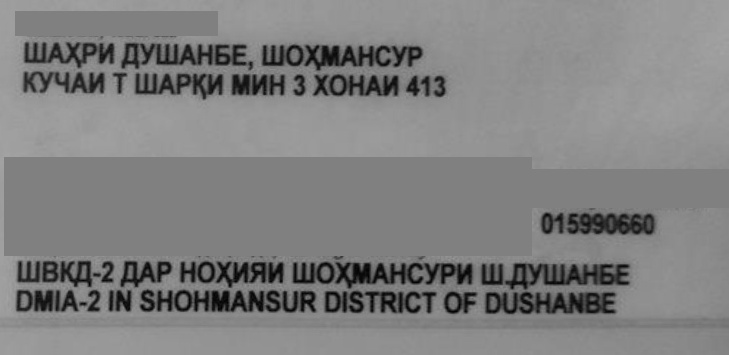0: (539, 209, 557, 237), (603, 209, 621, 237), (641, 209, 659, 237)
1: (420, 69, 434, 105), (552, 209, 568, 237)
2: (102, 249, 118, 293), (85, 283, 105, 315)
3: (433, 69, 449, 105)
4: (404, 68, 424, 104)
5: (565, 209, 581, 237)
6: (616, 209, 632, 237), (629, 209, 645, 237)
9: (577, 209, 595, 237), (590, 209, 608, 237)
А: (44, 32, 64, 72), (177, 33, 197, 73), (342, 35, 362, 75), (138, 251, 158, 291), (370, 252, 390, 292), (565, 253, 585, 293), (157, 68, 177, 102), (366, 69, 386, 103), (70, 67, 88, 101)
Б: (214, 33, 234, 73), (599, 253, 619, 293)
В: (39, 251, 59, 291)
Д: (122, 32, 142, 72), (74, 251, 94, 291), (123, 251, 139, 291), (512, 253, 528, 293)
Е: (615, 253, 637, 293), (230, 33, 248, 73)
З: (295, 69, 313, 103)
И: (96, 32, 124, 72), (453, 252, 481, 292), (268, 252, 292, 292), (87, 67, 113, 101), (207, 68, 231, 102), (383, 69, 407, 103), (230, 251, 250, 291), (250, 68, 270, 102)
К: (57, 251, 75, 291), (26, 67, 38, 101)
М: (318, 34, 340, 74), (346, 252, 366, 292), (234, 68, 250, 102)
Н: (269, 68, 293, 102), (194, 33, 214, 73), (355, 35, 373, 75), (386, 252, 404, 292), (578, 253, 596, 293), (344, 69, 364, 103), (183, 251, 197, 291)
О: (312, 252, 334, 292), (285, 34, 305, 74), (195, 251, 215, 291), (330, 69, 346, 103)
Р: (405, 35, 431, 75), (156, 251, 180, 291), (79, 32, 97, 72), (438, 252, 454, 292), (172, 68, 190, 102)
С: (375, 35, 395, 75), (405, 252, 425, 292)
Т: (114, 67, 134, 101)
У: (138, 33, 156, 73), (392, 35, 408, 75), (425, 252, 441, 292), (530, 253, 546, 293), (34, 67, 52, 101)
Х: (314, 69, 332, 103)
Ч: (52, 67, 72, 101)
Ш: (154, 33, 176, 73), (263, 34, 283, 74), (293, 252, 313, 292), (540, 253, 560, 293), (25, 32, 43, 72), (19, 251, 37, 291), (483, 252, 499, 292), (136, 67, 154, 101)
Я: (250, 251, 270, 291)
Қ: (190, 68, 208, 102)
Ҳ: (62, 32, 80, 72), (302, 34, 320, 74), (216, 251, 234, 291), (334, 252, 352, 292)
